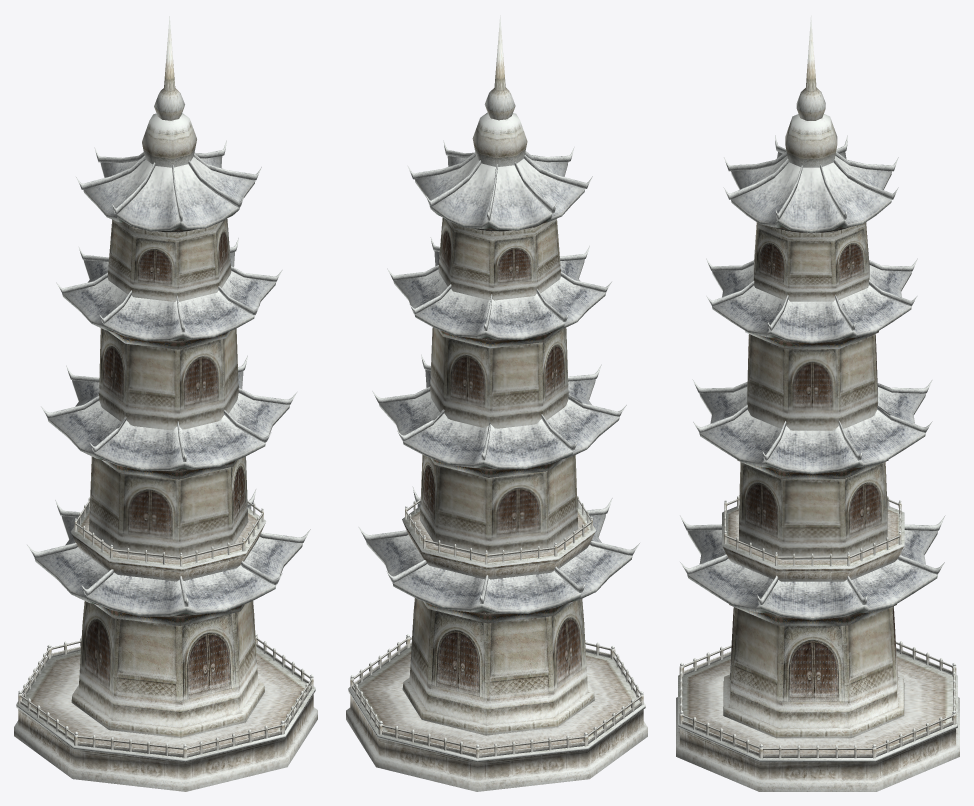
The model's file is snow_tower01.fbx.
The picture shows the model from 3 angles, left to right: view 1: azimuth 30°, elevation 25°; view 2: azimuth 150°, elevation 25°; view 3: azimuth 270°, elevation 25°; orthographic projection.
Visible parts, largest first — view 1: snow_tower02_02, snow_tower02_03, snow_tower02_01; view 2: snow_tower02_02, snow_tower02_03, snow_tower02_01; view 3: snow_tower02_02, snow_tower02_03, snow_tower02_01.
Part boxes in pixels (x1=…): snow_tower02_02: x1=27, y1=113, x2=310, y2=738; snow_tower02_03: x1=34, y1=16, x2=302, y2=625; snow_tower02_01: x1=14, y1=497, x2=317, y2=791; snow_tower02_02: x1=358, y1=112, x2=639, y2=735; snow_tower02_03: x1=366, y1=15, x2=632, y2=623; snow_tower02_01: x1=346, y1=495, x2=647, y2=791; snow_tower02_02: x1=680, y1=114, x2=945, y2=738; snow_tower02_03: x1=687, y1=15, x2=937, y2=625; snow_tower02_01: x1=676, y1=496, x2=959, y2=791.
Size of the model in its own units: 17.02 by 47.5 by 17.02.
